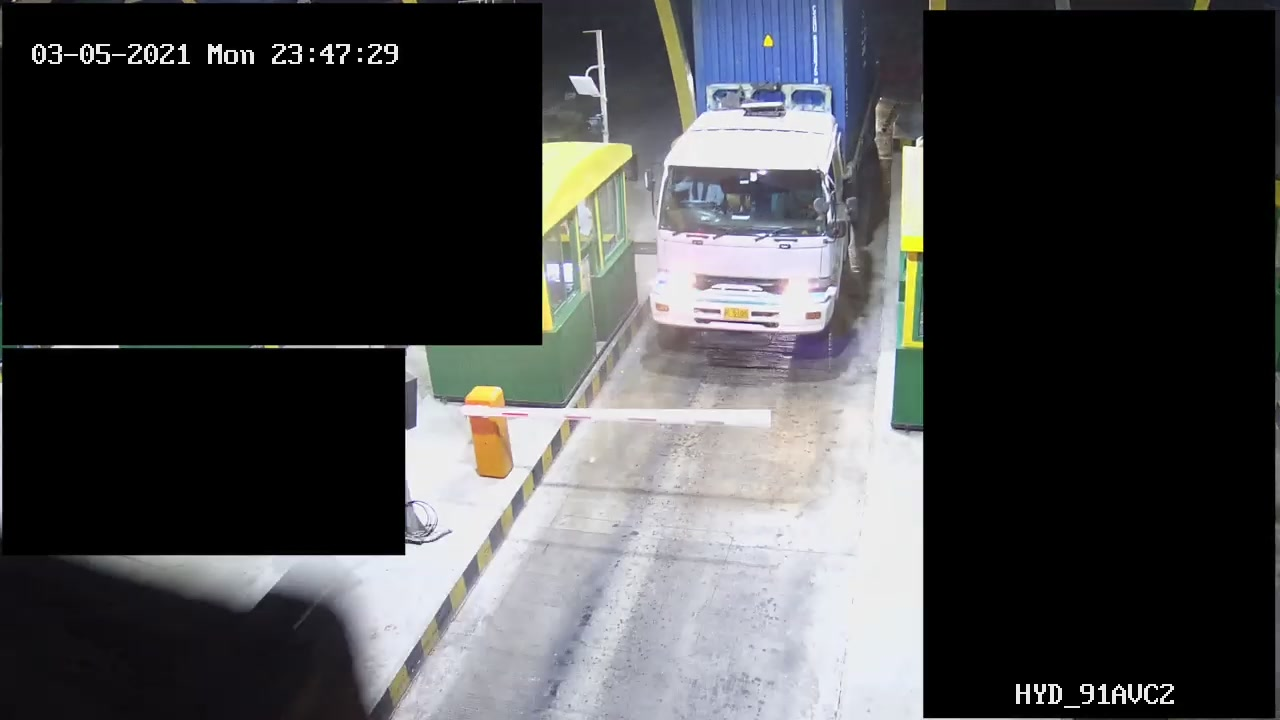F6: (637, 1, 897, 348)
